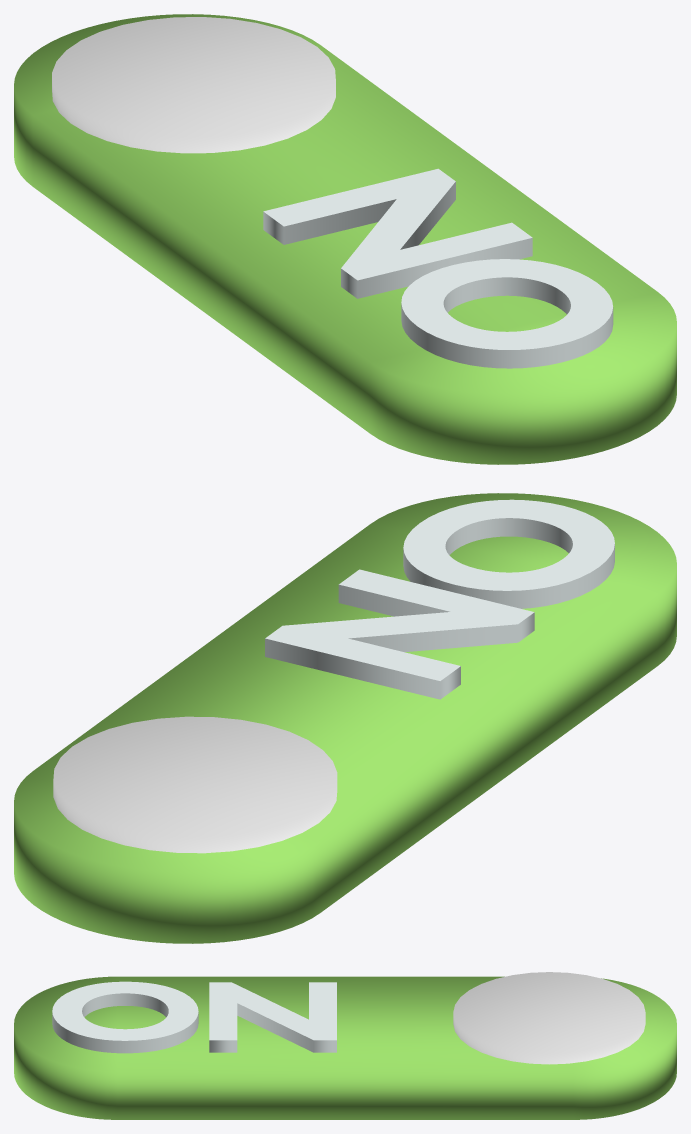
3 renders of one model, top to bottom at view 1: azimuth 30°, elevation 25°; view 2: azimuth 150°, elevation 25°; view 3: azimuth 270°, elevation 25°, orthographic. The views are drawn at different scales.
Parts seen in each view (by area): view 1: obj_0.009, t.005, Cylinder.001; view 2: obj_0.009, t.005, Cylinder.001; view 3: obj_0.009, Cylinder.001, t.005.
Part boxes in pixels (box(x1,y1,x2,y2)): obj_0.009: box(14, 14, 676, 464); t.005: box(263, 168, 613, 368); Cylinder.001: box(52, 17, 335, 153); obj_0.009: box(14, 493, 676, 943); t.005: box(265, 499, 614, 699); Cylinder.001: box(53, 716, 337, 853); obj_0.009: box(14, 976, 676, 1119); Cylinder.001: box(453, 972, 645, 1064); t.005: box(52, 981, 336, 1053).
Bounding box in the file's own units: 186 × 55.67 × 549.
